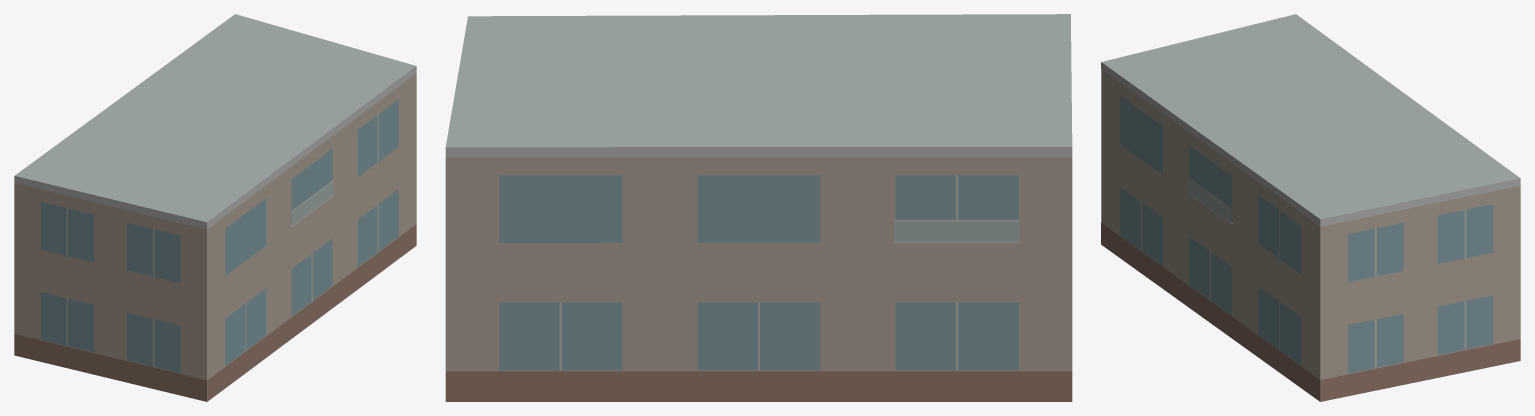
Rendered from survey-upis-32643817.glb.
The picture shows the model from 3 angles, left to right: view 1: azimuth 30°, elevation 25°; view 2: azimuth 150°, elevation 25°; view 3: azimuth 270°, elevation 25°; orthographic projection. The views are drawn at different scales.
Parts seen in each view (by area): view 1: survey-upis-32643817.tmp; view 2: survey-upis-32643817.tmp; view 3: survey-upis-32643817.tmp.
Part boxes in pixels (x1,y1,x2,y2): survey-upis-32643817.tmp: (14, 14, 416, 401); survey-upis-32643817.tmp: (445, 14, 1072, 401); survey-upis-32643817.tmp: (1101, 14, 1520, 401).
Size of the model in its own units: 14.73 by 6.1 by 12.71.
